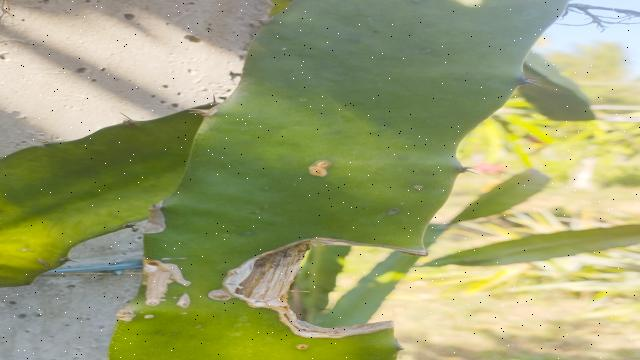stemcanker: (305, 154, 336, 180), (285, 339, 316, 355)
